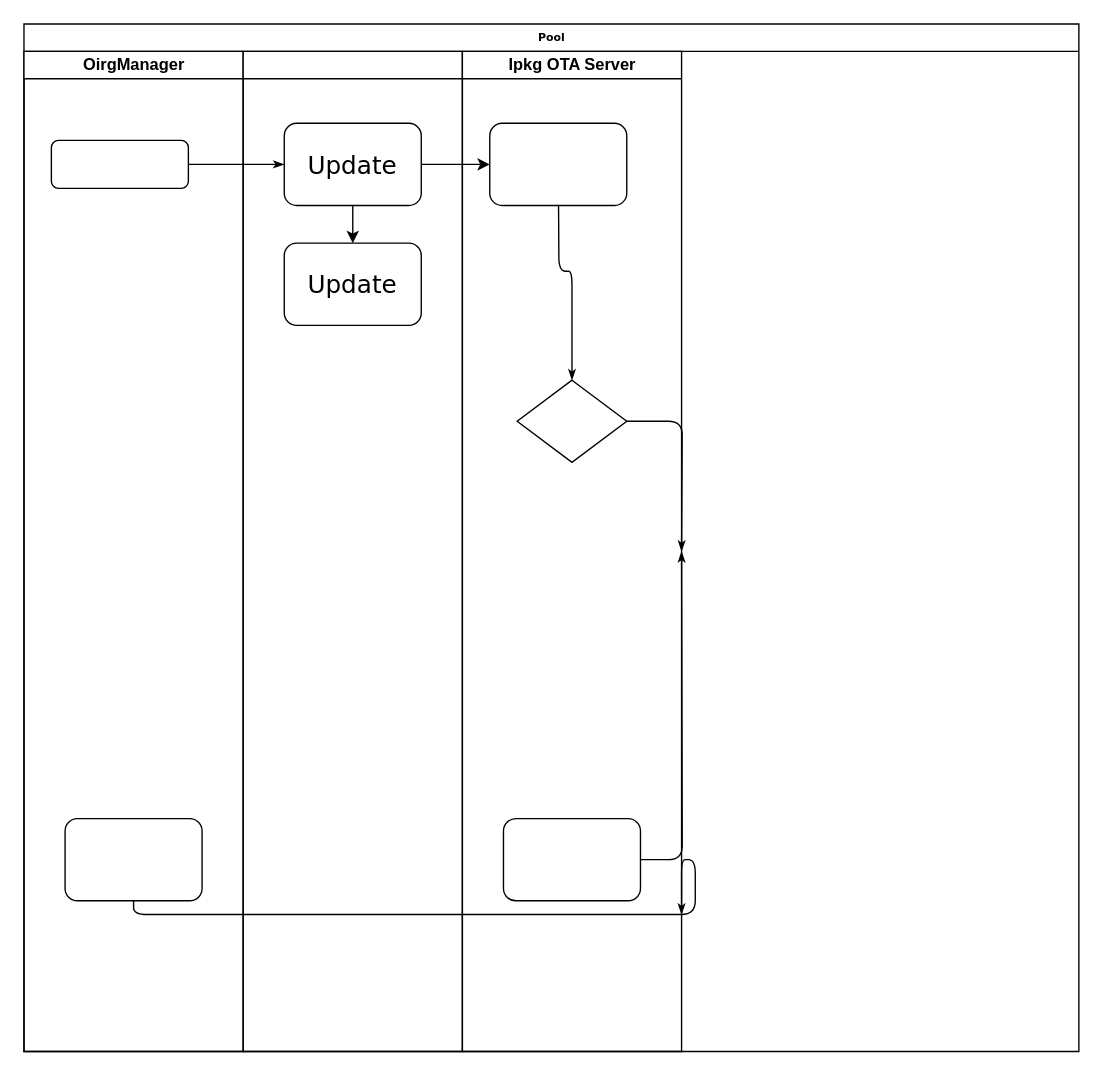
The diagram is 1103 pixels wide and 1075 high, and some of its shapes have lost their labels. Here are the shapes that lost their labels. From the top down, the box of each, then its label:
(50, 139, 188, 188): Start
(488, 122, 627, 206): Download ipkg index
(242, 50, 462, 1051): PkgManager
